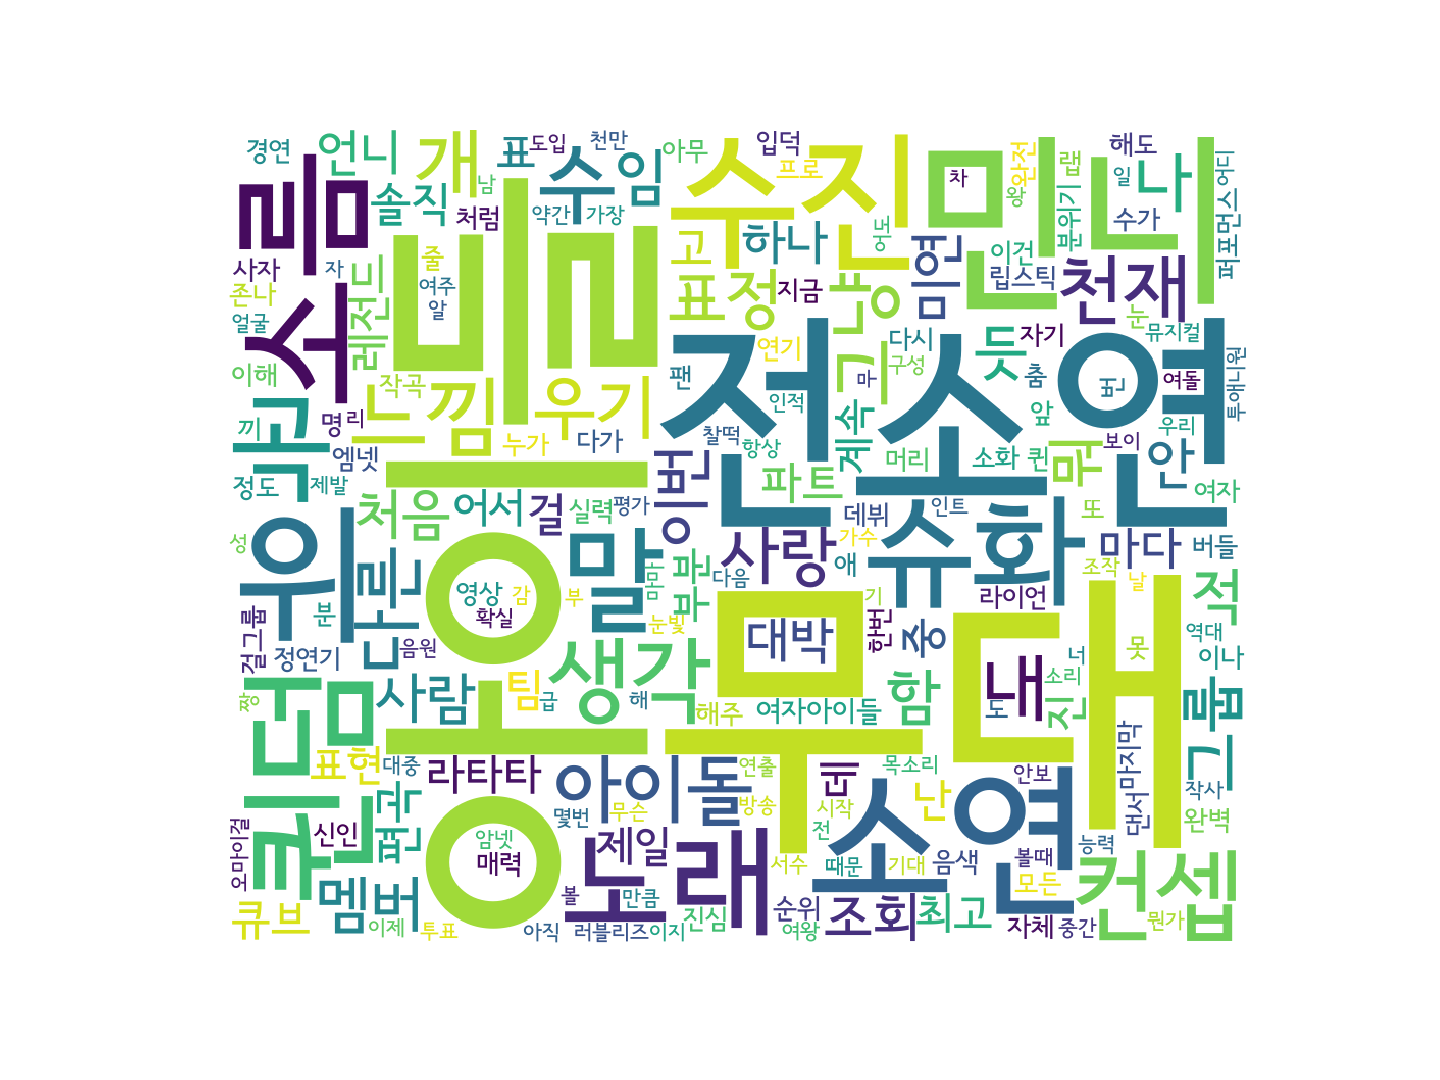

This screenshot's page, from the dashboard's own definition file:
{"tool":"tableau","page":{"name":"대시보드 1","canvas":[1000,800],"ordinal":0},"visuals":[{"type":"worksheet","title":"시트 1","mark":"Bar","rows":["승차총승객수"],"cols":["등록일자","등록일자","등록일자"],"box":[8,8,824,392]},{"type":"legend","title":"시트 1","param":"[federated.11whdm11277shg11rev0y061gchy].[sum:승차총승객수:qk]","box":[832,8,160,65]},{"type":"text","box":[832,73,160,25]},{"type":"worksheet","title":"시트 2","mark":"Automatic","rows":["승차총승객수"],"cols":["역명"],"box":[8,400,824,392]}]}

Visuals, with their boxes on the page's 1000x800 design canvas (x1, y1, x2, y2). These are canvas units, not pixel positions in the 1440x1080 screenshot, which may show the page scaled, cropped or inside an application window:
"시트 1" worksheet (Bar marks): 8 8 832 400
"시트 1" legend: 832 8 992 73
text: 832 73 992 98
"시트 2" worksheet: 8 400 832 792
